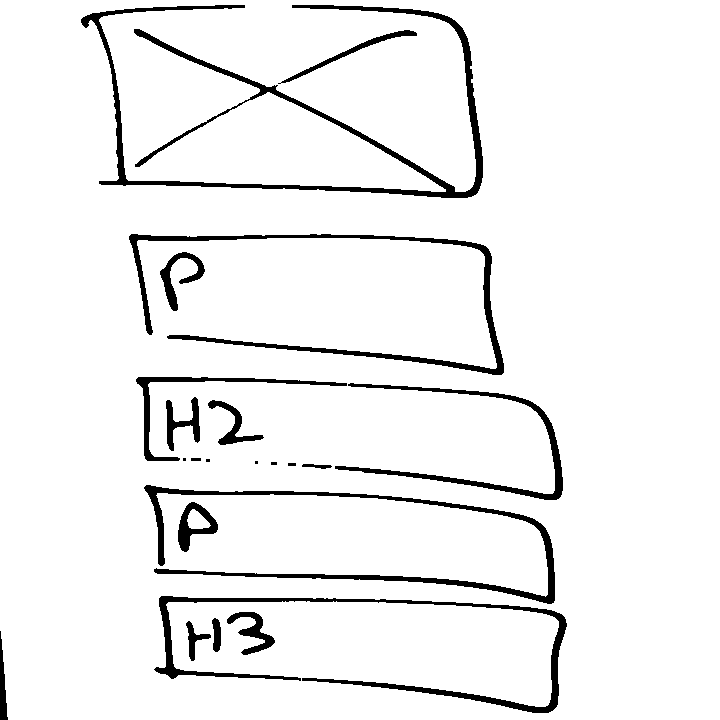heading2: (137, 372, 569, 502)
heading3: (155, 593, 571, 715)
paragraph: (126, 226, 512, 379), (141, 482, 566, 604)
picture: (79, 1, 492, 204)
